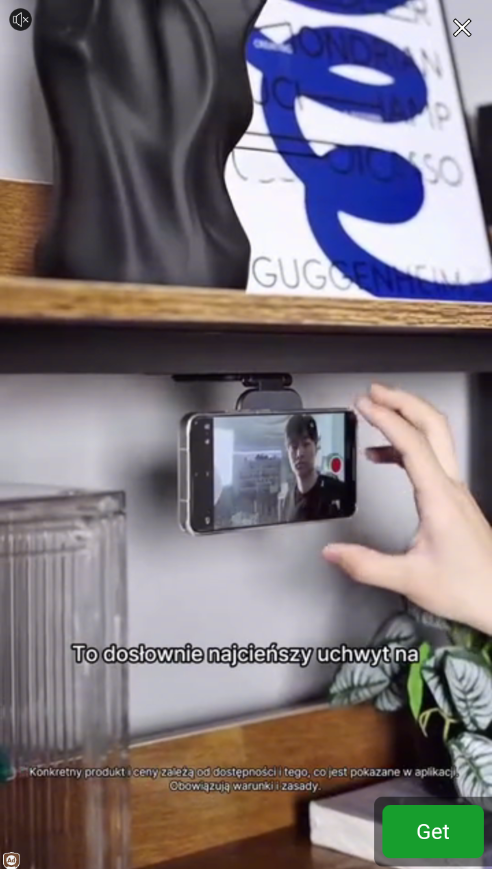close_button: (448, 13, 476, 43)
